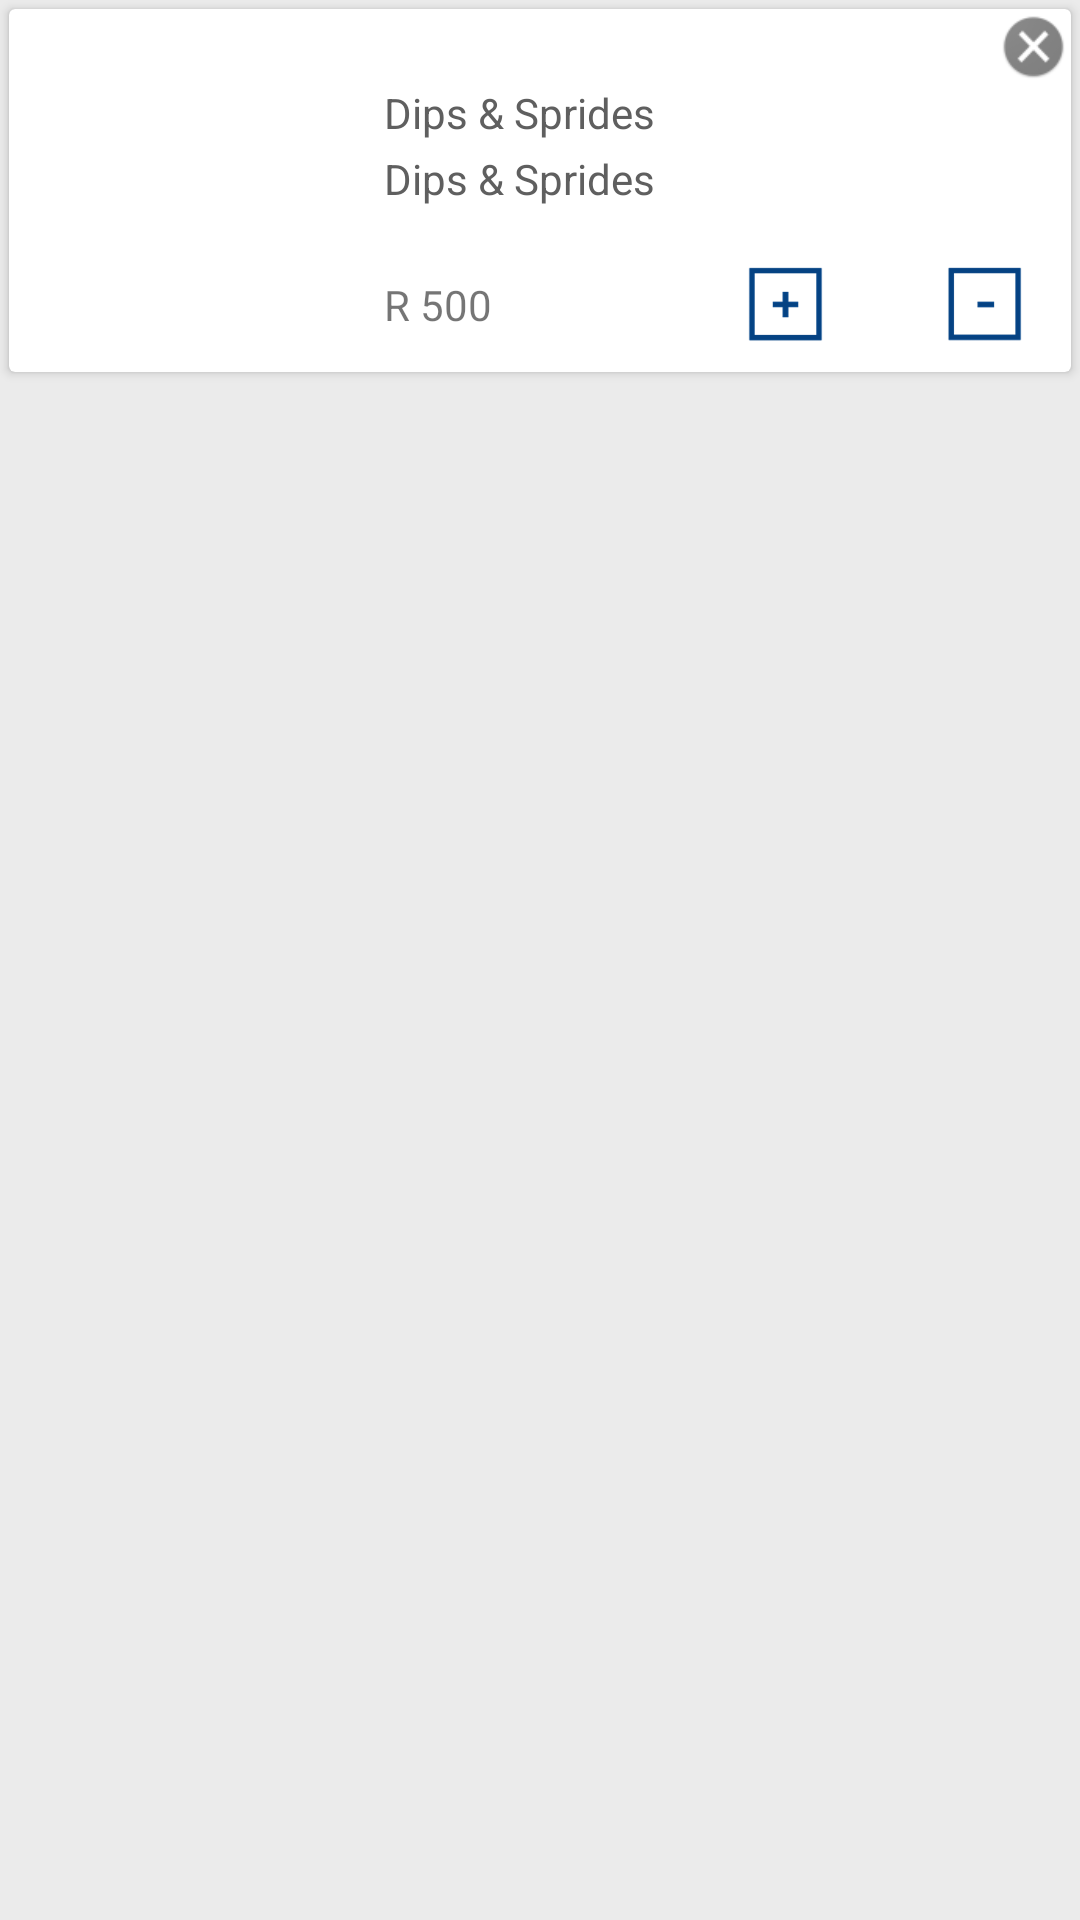

Where icons sit on this 1080px x 1920px app screen, as (x1, y1, x2, y2):
close: (1003, 17, 1064, 77)
minus: (948, 267, 1021, 341)
plus: (749, 267, 822, 341)
